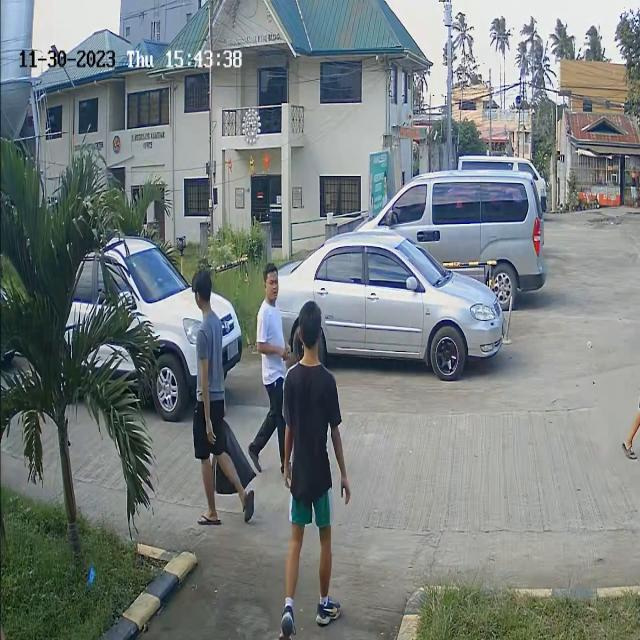person: (278, 296, 348, 514), (183, 269, 232, 423), (258, 266, 293, 368)
